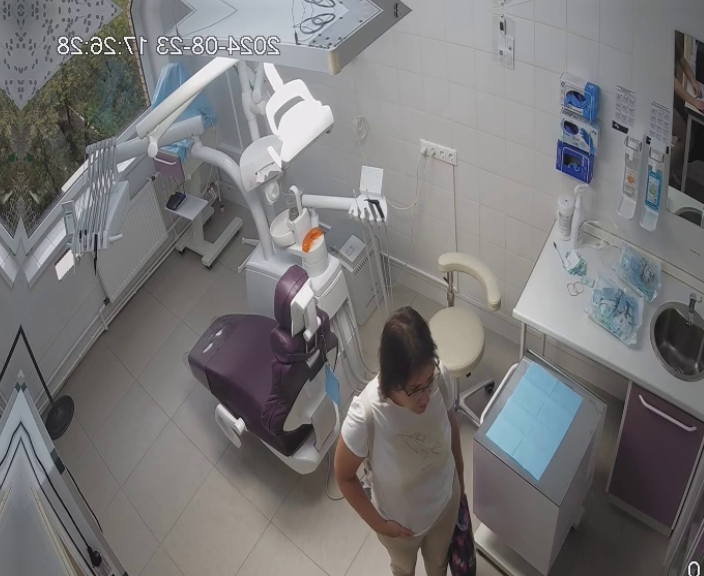Empty: (181, 263, 365, 478)
